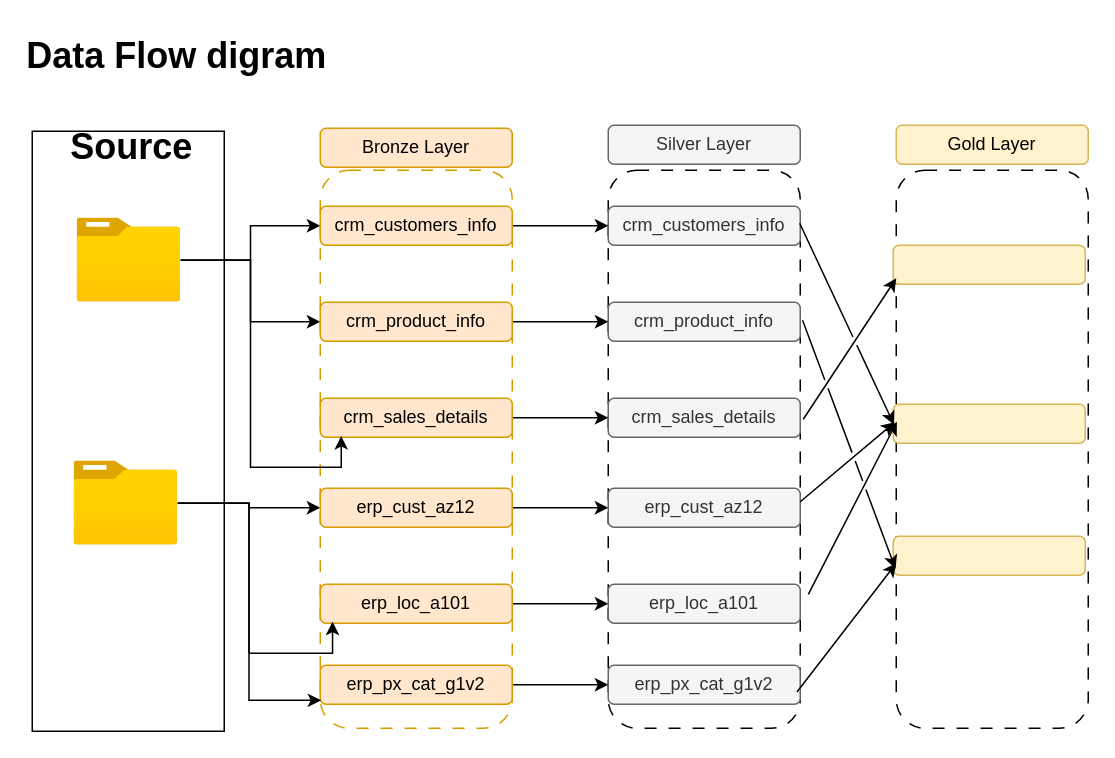
The diagram is 1115 pixels wide and 758 high, and some of its shapes have lost their labels. The box of each missing label's shape, as (x1, y1, x2, y2) in pixels:
CRM: (76, 218, 180, 302)
dim_customers: (892, 403, 1085, 443)
dim_products: (892, 535, 1085, 575)
ERP: (74, 460, 177, 544)
fact_sales: (892, 244, 1085, 284)
